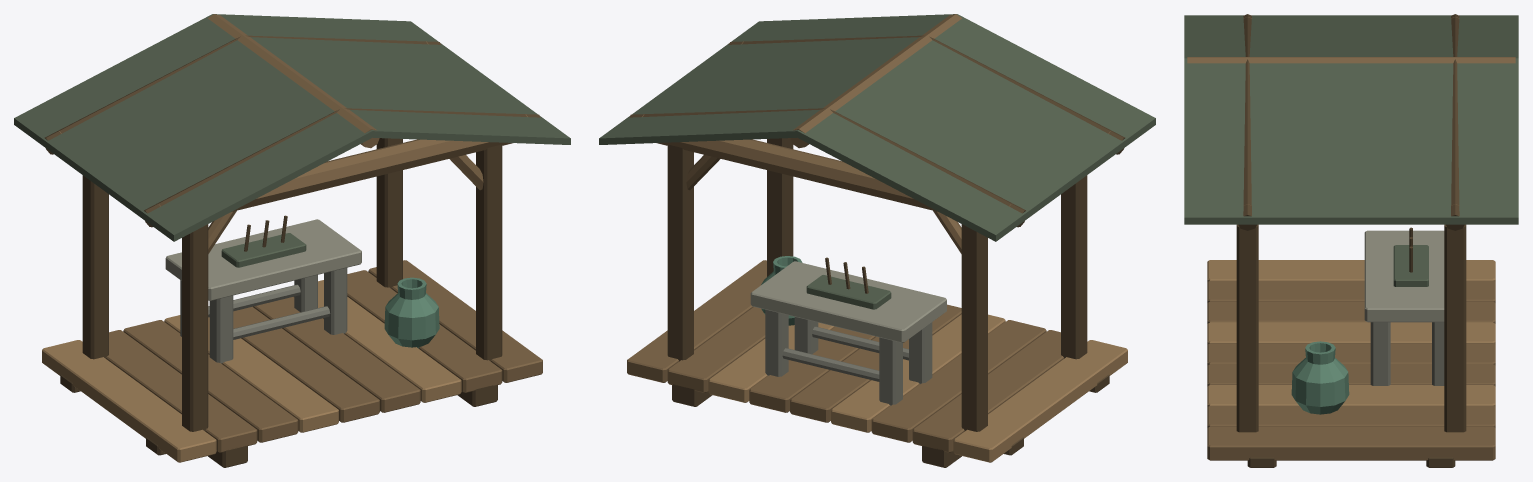
Rendered from offering-alcove.glb.
The picture shows the model from 3 angles, left to right: view 1: azimuth 30°, elevation 25°; view 2: azimuth 150°, elevation 25°; view 3: azimuth 270°, elevation 25°; orthographic projection. The views are drawn at different scales.
Parts seen in each view (by area): view 1: offering-alcove__body; view 2: offering-alcove__body; view 3: offering-alcove__body.
Part boxes in pixels (x1,y1,x2,y2): offering-alcove__body: [14, 14, 570, 467]; offering-alcove__body: [599, 14, 1155, 467]; offering-alcove__body: [1184, 14, 1518, 467].
Size of the model in its own units: 2.16 by 1.63 by 1.51.
